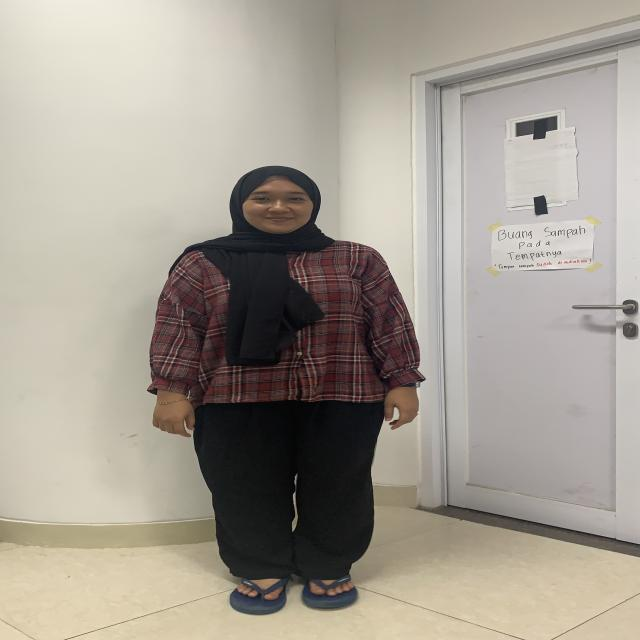jovem: (130, 146, 447, 611)
